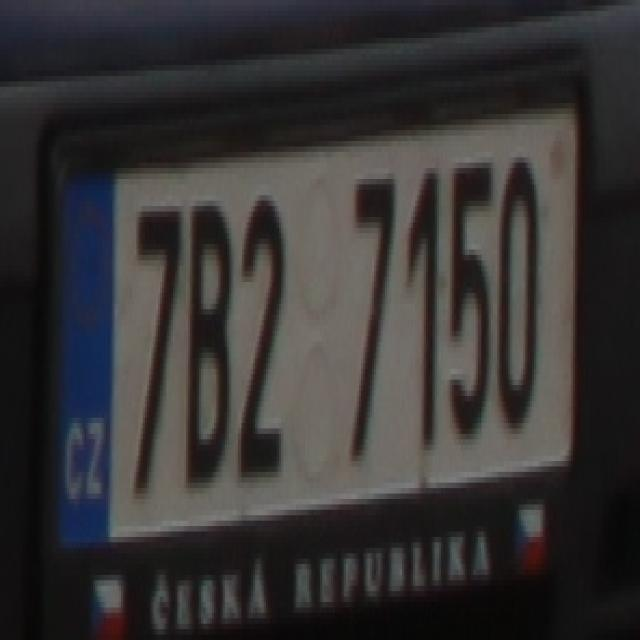0: (498, 152, 538, 428)
1: (404, 168, 439, 450)
2: (235, 190, 288, 466)
5: (445, 152, 491, 445)
7: (344, 179, 396, 456), (130, 206, 175, 488)
B: (180, 201, 232, 472)
